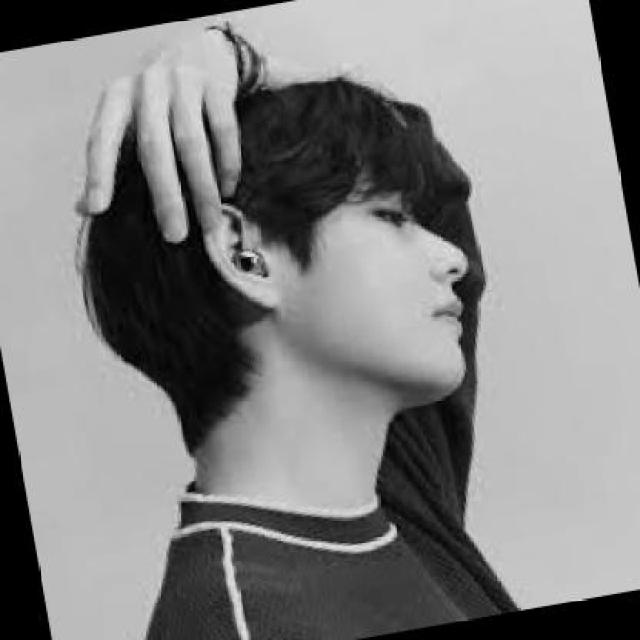earphone: (226, 229, 286, 296)
